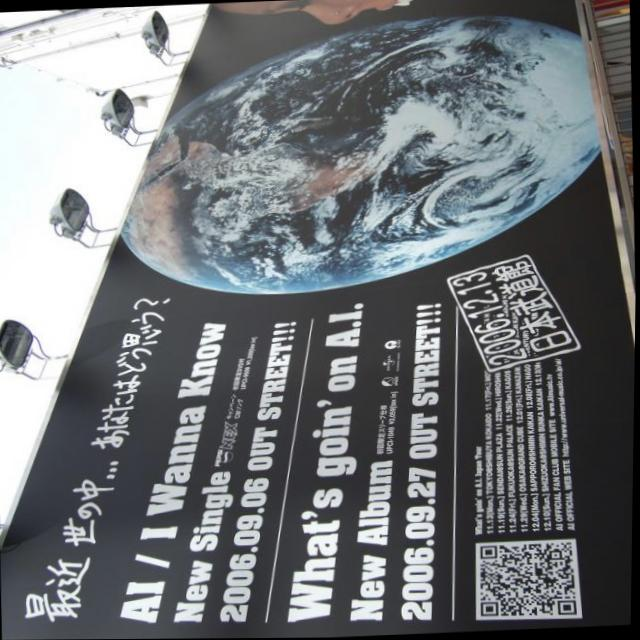qrcode: (481, 543, 579, 618)
